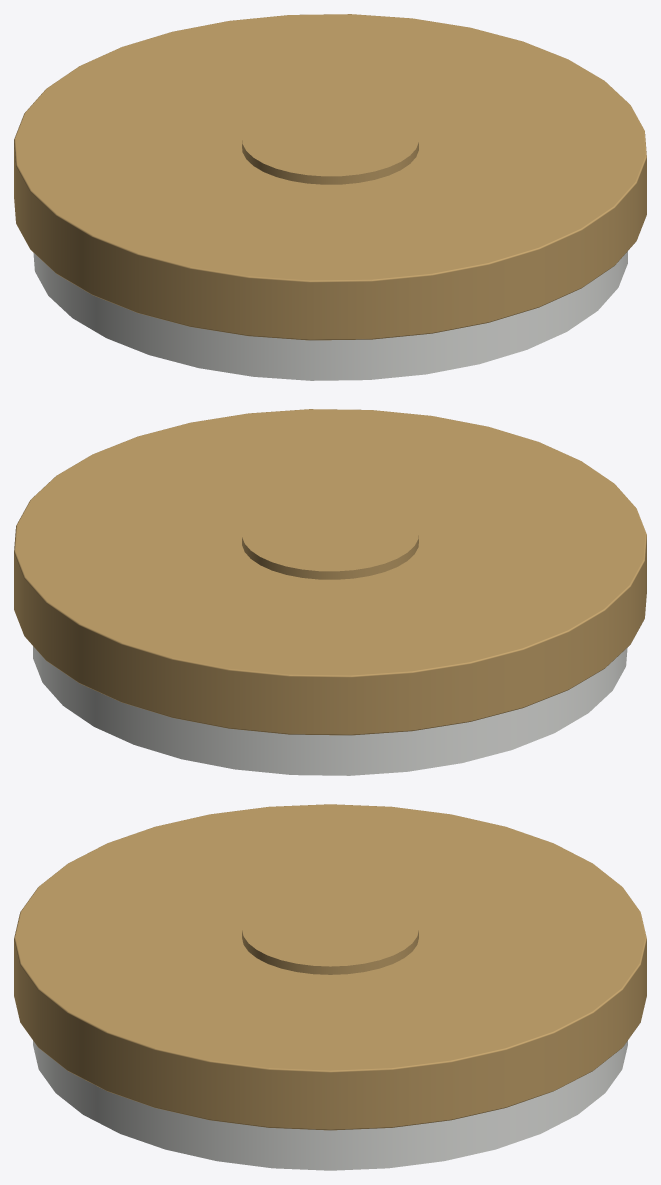
Rendered from ceiling-opal-flush.glb.
3 renders of one model, top to bottom at view 1: azimuth 30°, elevation 25°; view 2: azimuth 150°, elevation 25°; view 3: azimuth 270°, elevation 25°, orthographic.
Visible parts, largest first — view 1: catalog_surface_RealismUV; view 2: catalog_surface_RealismUV; view 3: catalog_surface_RealismUV.
Boxes of the visible parts, <box> form: catalog_surface_RealismUV: <box>14,14,646,380</box>; catalog_surface_RealismUV: <box>14,409,646,775</box>; catalog_surface_RealismUV: <box>14,804,646,1170</box>.
Bounding box in the file's own units: 0.48 × 0.1 × 0.48.
